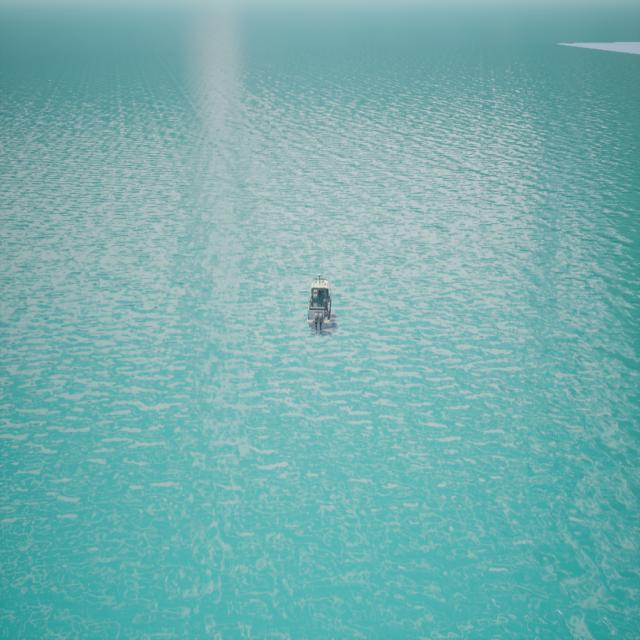ship: (304, 266, 336, 341)
